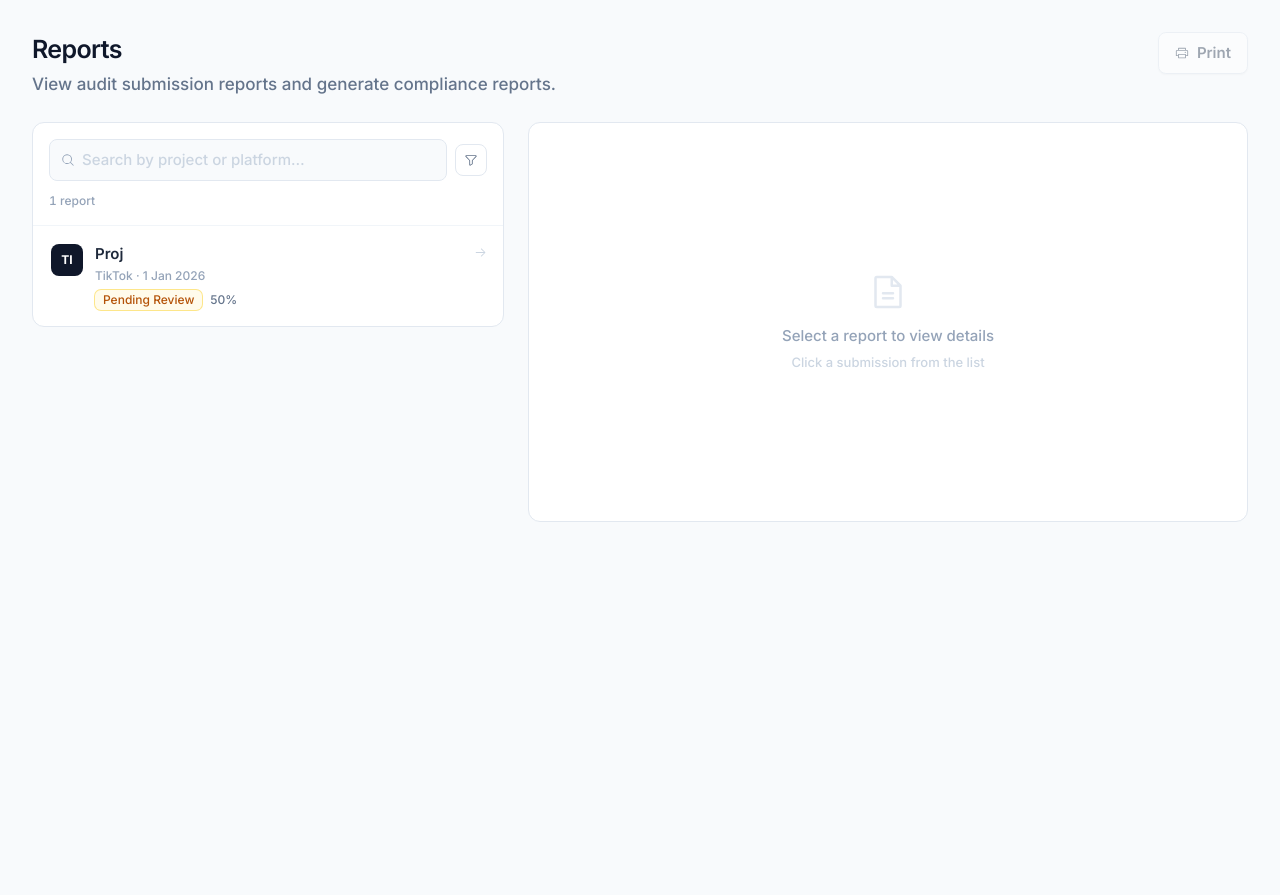
Test: ReportsPage provenance badges › shows each failing item's source, in the list and in the print view
Step 1. Click the button "TI Proj TikTok · 1 Jan 2026 Pending Review 50%" → x=67, y=260, box [33,226,503,326]
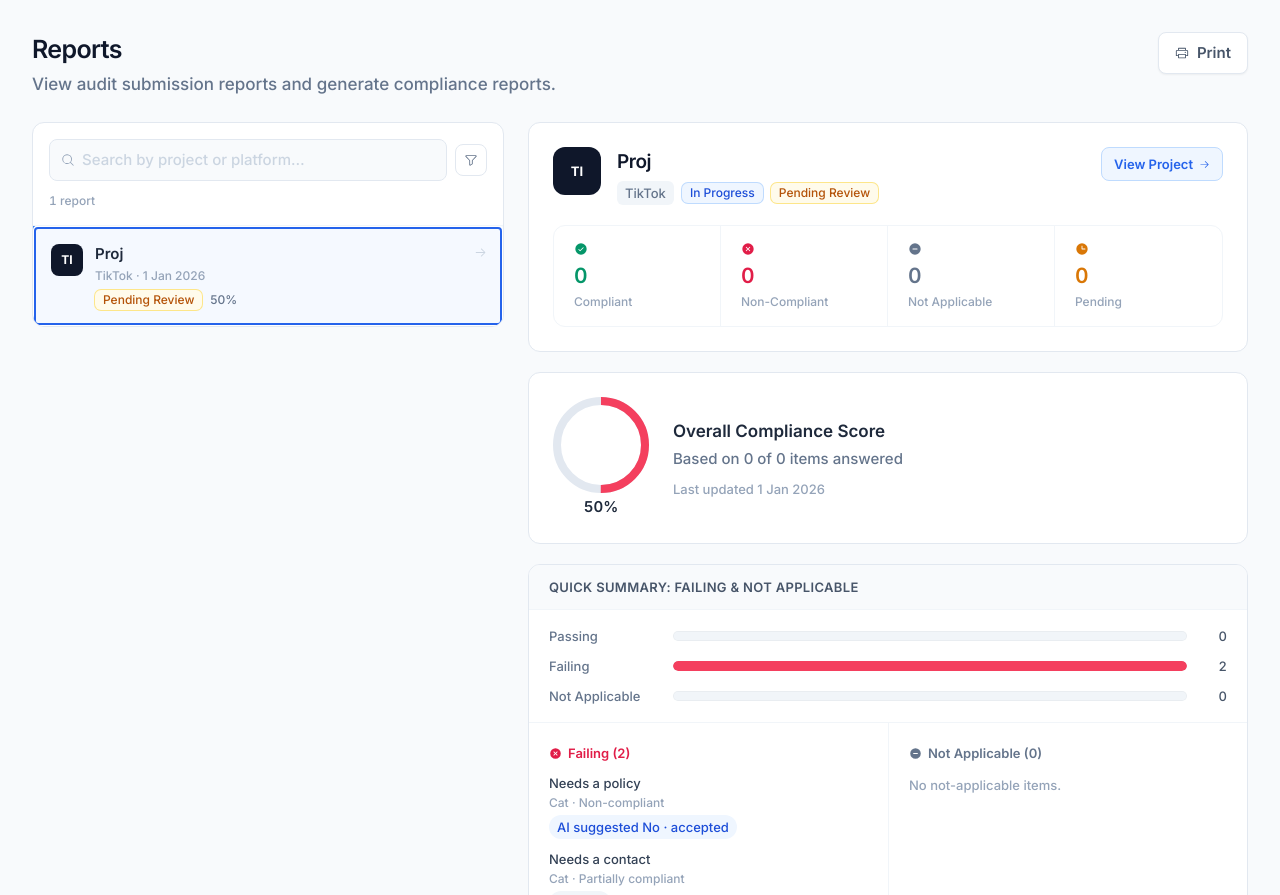
Expected: the text "AI suggested No · accepted" is shown 2 times
Expected: the text "Manual" is shown 2 times
